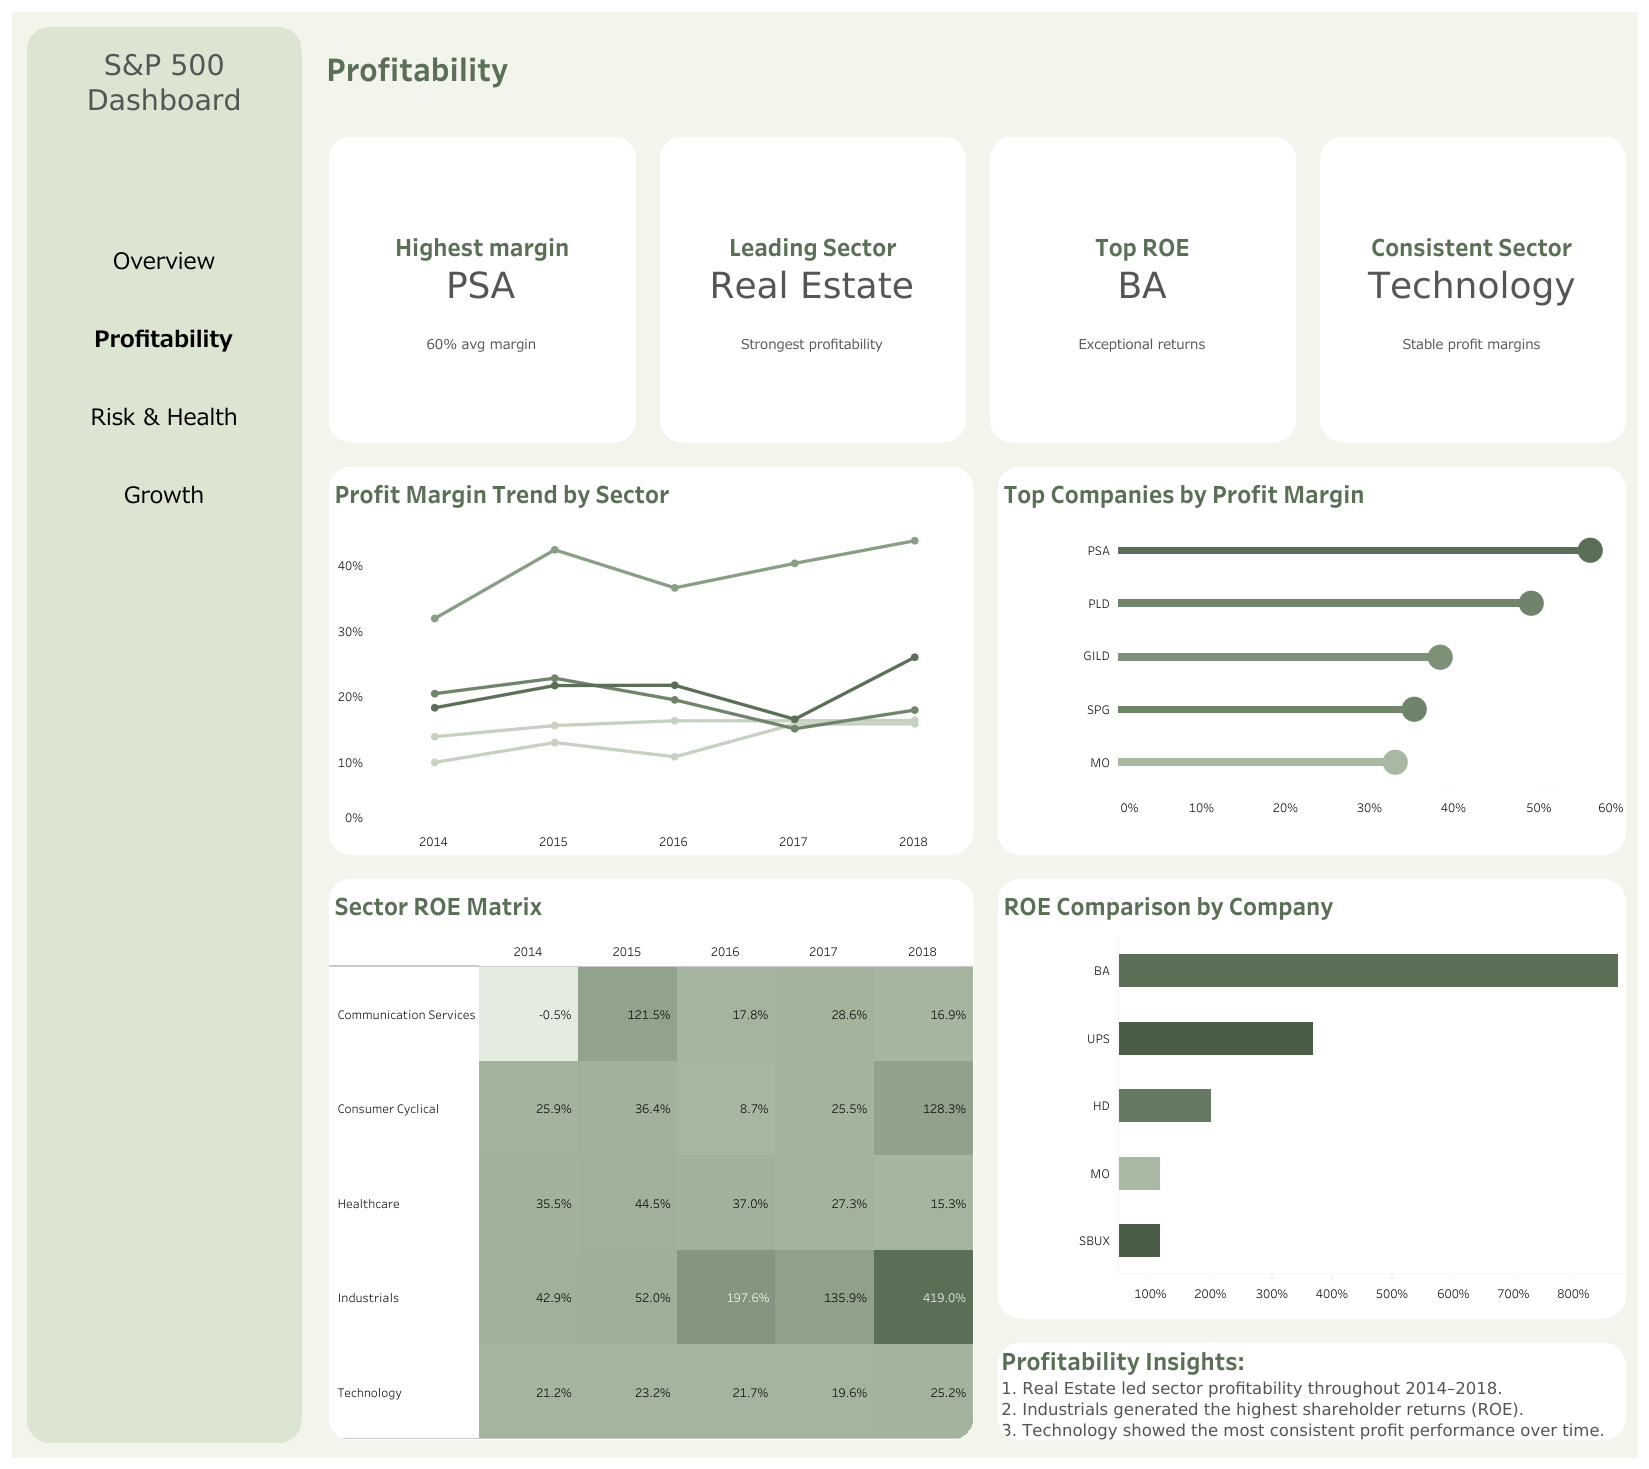

This screenshot's page, from the dashboard's own definition file:
{"tool":"tableau","page":{"name":"Dashboard 2","canvas":[1100,980],"ordinal":1},"visuals":[{"type":"text","box":[211,8,881,75]},{"type":"text","box":[28,28,163,84]},{"type":"worksheet","title":"kpi 1 top mrgn","mark":"Automatic","box":[211,83,221,220]},{"type":"worksheet","title":"kpi 2 top sector","mark":"Automatic","box":[432,83,220,220]},{"type":"worksheet","title":"kpi 3 top roe","mark":"Automatic","box":[652,83,220,220]},{"type":"worksheet","title":"kpi 4 consistent","mark":"Automatic","box":[872,83,220,220]},{"type":"blank","box":[28,112,163,65]},{"type":"dashboard-object","box":[28,177,163,52]},{"type":"dashboard-object","box":[28,229,163,52]},{"type":"dashboard-object","box":[28,281,163,52]},{"type":"worksheet","title":"prft mrgn by sector","mark":"Line","rows":["Net Profit Margin"],"cols":["Year"],"box":[211,303,446,275]},{"type":"worksheet","title":"comp by prft mrgn","mark":"Bar","rows":["Ticker"],"cols":["Net Profit Margin","Net Profit Margin"],"box":[657,303,435,275]},{"type":"dashboard-object","box":[28,333,163,52]},{"type":"worksheet","title":"Sector Performance","mark":"Square","rows":["Sector"],"cols":["Year"],"box":[211,578,446,390]},{"type":"worksheet","title":"roe compae","mark":"Bar","rows":["Ticker"],"cols":["returnOnEquity"],"box":[657,578,435,209]},{"type":"text","box":[657,787,435,181]}]}

Visuals, with their boxes in screenshot pixels (x1, y1, x2, y2), scaled from the page's 1100x980 canvas onto the 1649x1469 screenshot:
text: 316, 12, 1637, 124
text: 42, 42, 286, 168
"kpi 1 top mrgn" worksheet: 316, 124, 648, 454
"kpi 2 top sector" worksheet: 648, 124, 977, 454
"kpi 3 top roe" worksheet: 977, 124, 1307, 454
"kpi 4 consistent" worksheet: 1307, 124, 1637, 454
blank: 42, 168, 286, 265
dashboard-object: 42, 265, 286, 343
dashboard-object: 42, 343, 286, 421
dashboard-object: 42, 421, 286, 499
"prft mrgn by sector" worksheet (Line marks): 316, 454, 985, 866
"comp by prft mrgn" worksheet (Bar marks): 985, 454, 1637, 866
dashboard-object: 42, 499, 286, 577
"Sector Performance" worksheet (Square marks): 316, 866, 985, 1451
"roe compae" worksheet (Bar marks): 985, 866, 1637, 1180
text: 985, 1180, 1637, 1451
